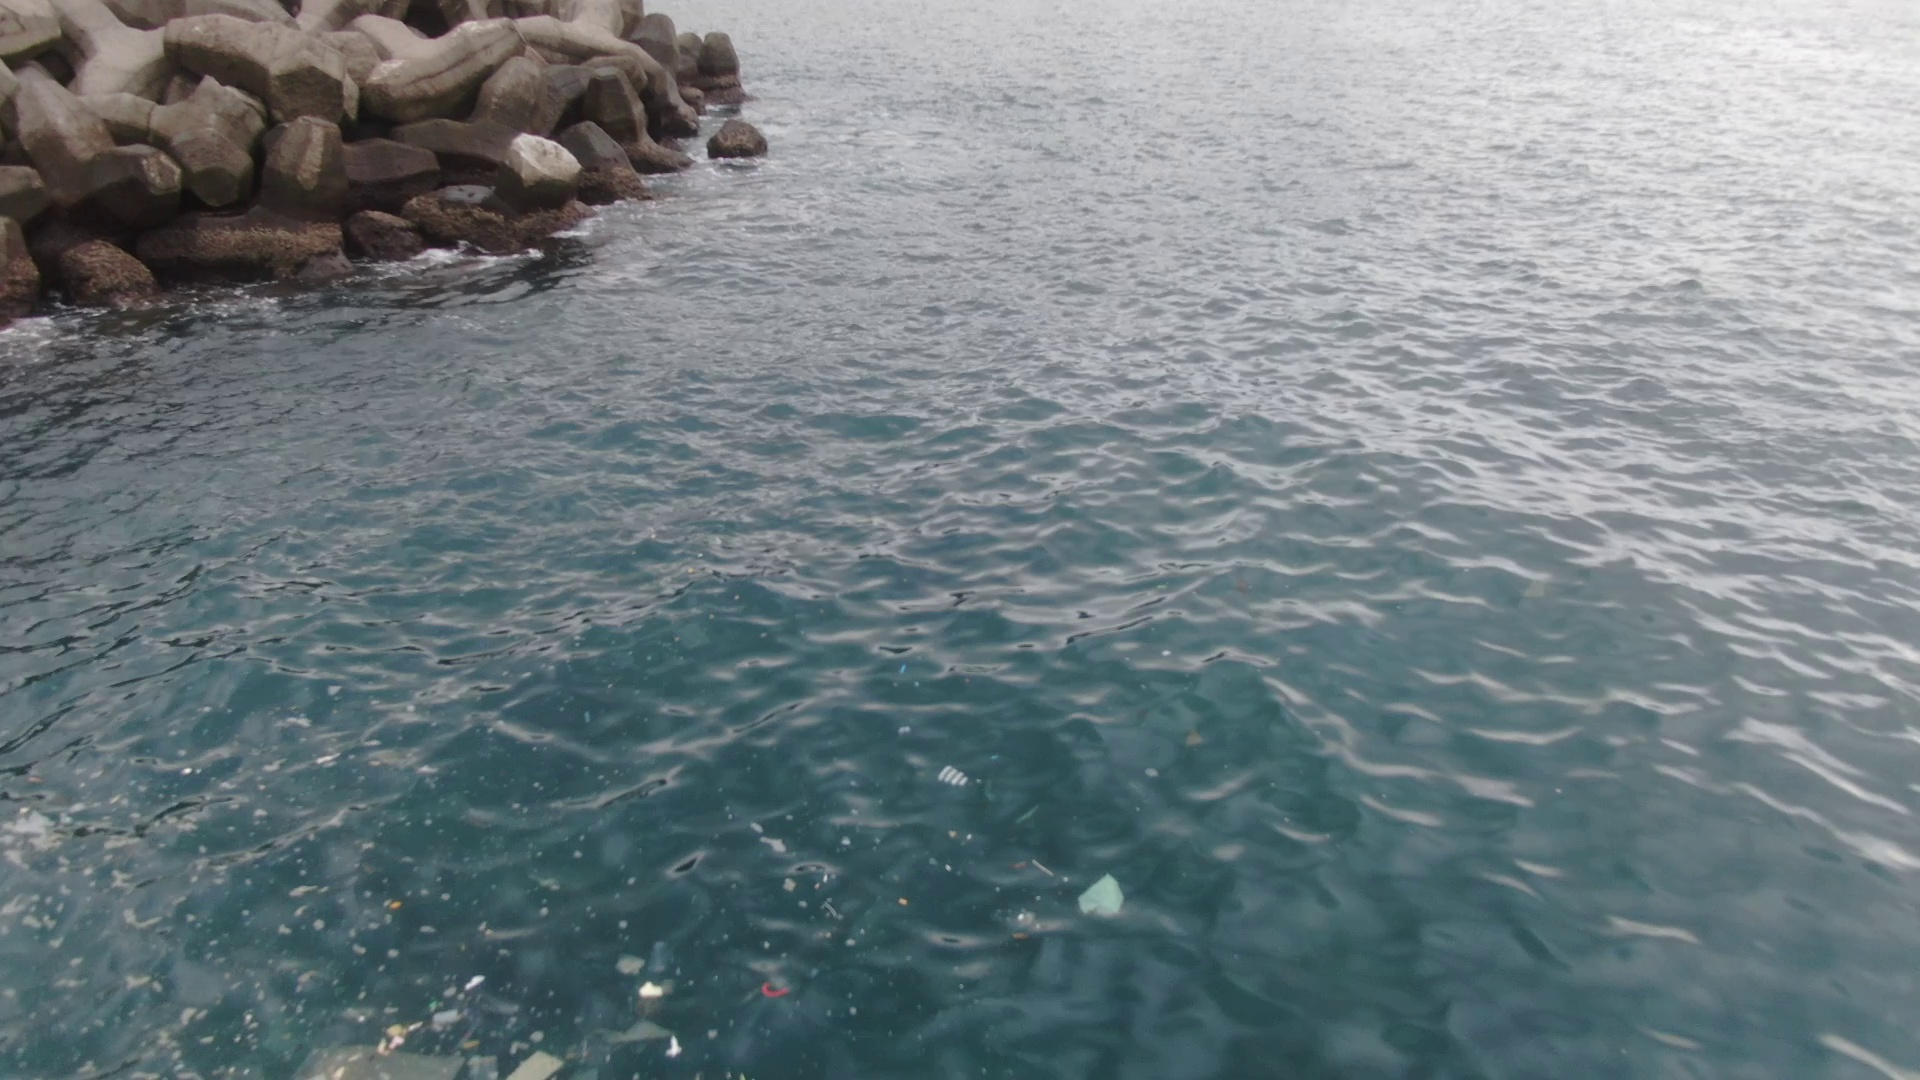garbage: (227, 938, 679, 1080), (1058, 862, 1153, 934)
